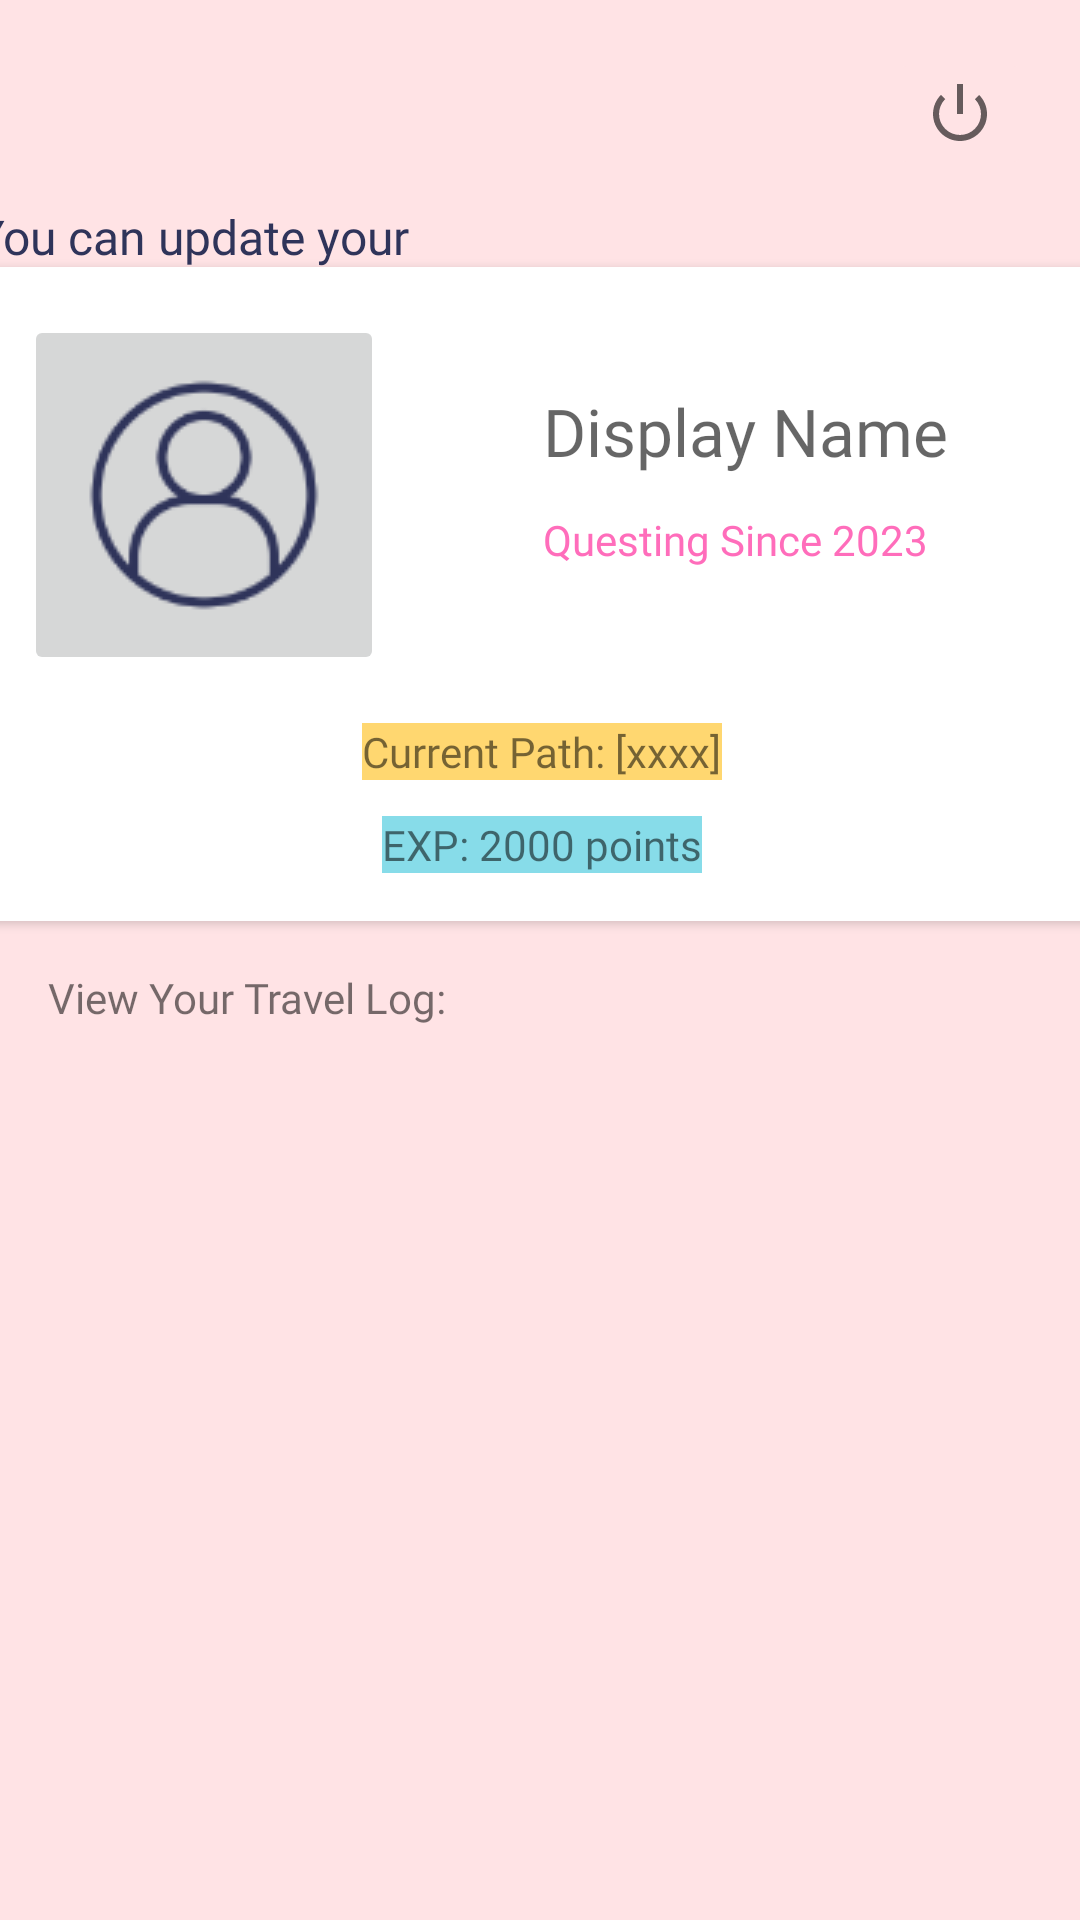

Icon click points for this 1080px×1920px phone screenshot, format point (x, y):
lock power off: point (960, 112)
